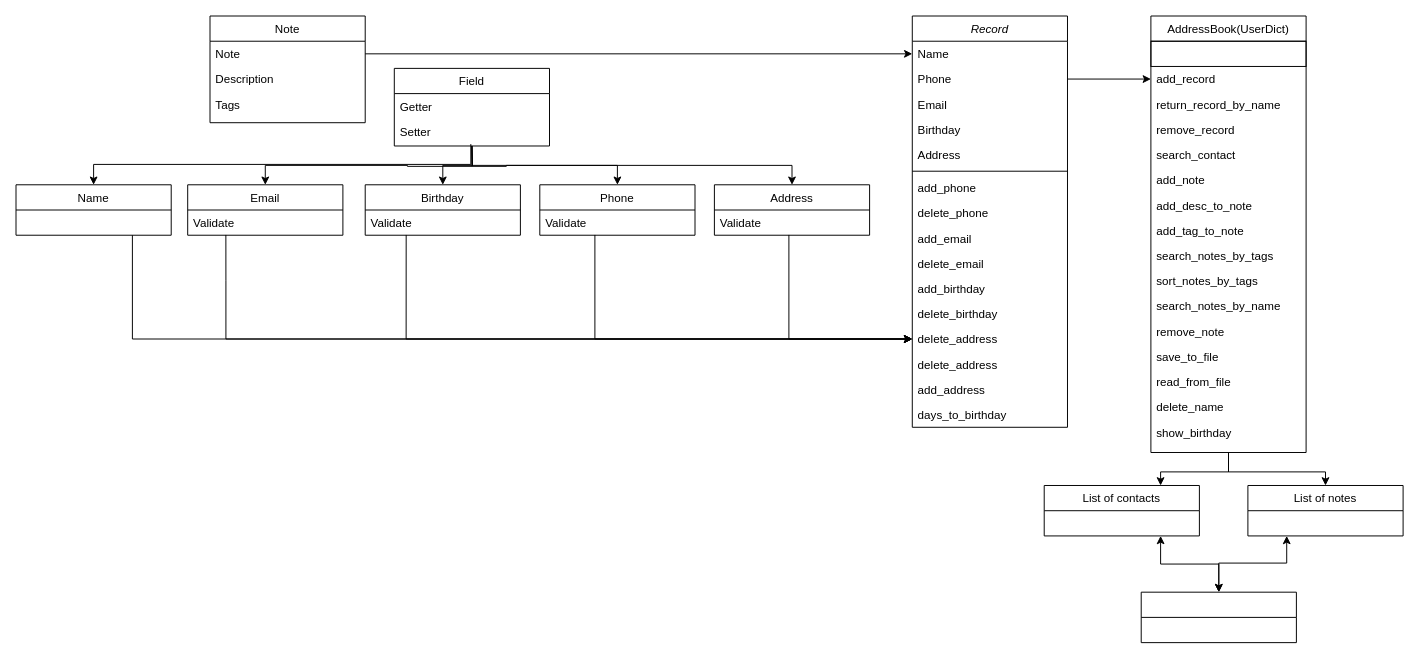
This 1419x659 diagram has some shape labels left out. The shapes that lost their labels are listed below. From the top down, each one's centre as x and y in pixels, then its label:
(1228,53): data
(1218,617): Save
